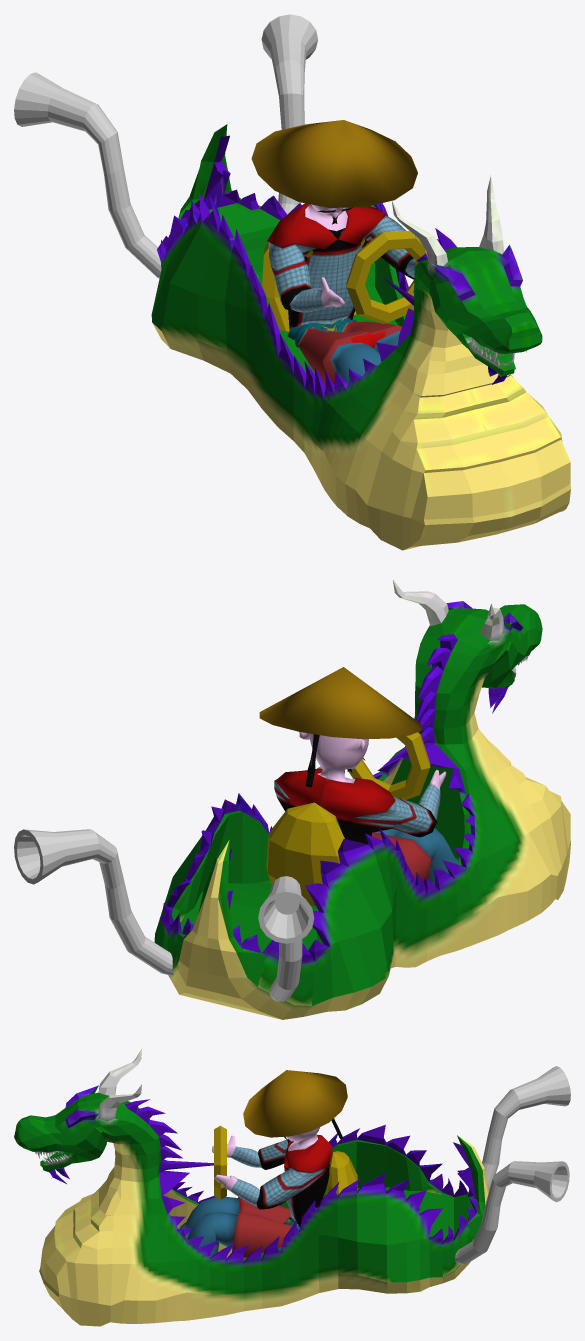
File: ChinoLanzamiento_000662.obj
3 renders of one model, top to bottom at view 1: azimuth 30°, elevation 25°; view 2: azimuth 150°, elevation 25°; view 3: azimuth 270°, elevation 25°, orthographic. The views are drawn at different scales.
Visible parts, largest first — view 1: ChasisChino_ChasisChinoH, Chino_ChinoH, Tubos_TubosH, volanteChino_VolanteChinoH, AsientoChinoMalla_AsientoChinoMH; view 2: ChasisChino_ChasisChinoH, Chino_ChinoH, Tubos_TubosH, AsientoChinoMalla_AsientoChinoMH, volanteChino_VolanteChinoH; view 3: ChasisChino_ChasisChinoH, Chino_ChinoH, Tubos_TubosH, AsientoChinoMalla_AsientoChinoMH, volanteChino_VolanteChinoH.
Boxes of the visible parts, <box> form: ChasisChino_ChasisChinoH: <box>151,124,570,550</box>; Chino_ChinoH: <box>251,120,417,387</box>; Tubos_TubosH: <box>14,14,317,278</box>; volanteChino_VolanteChinoH: <box>346,231,425,323</box>; AsientoChinoMalla_AsientoChinoMH: <box>262,242,356,331</box>; ChasisChino_ChasisChinoH: <box>154,580,570,1019</box>; Chino_ChinoH: <box>259,667,458,884</box>; Tubos_TubosH: <box>14,829,314,1001</box>; AsientoChinoMalla_AsientoChinoMH: <box>266,802,344,906</box>; volanteChino_VolanteChinoH: <box>347,732,430,799</box>; ChasisChino_ChasisChinoH: <box>14,1049,489,1326</box>; Chino_ChinoH: <box>179,1070,347,1257</box>; Tubos_TubosH: <box>455,1066,570,1264</box>; AsientoChinoMalla_AsientoChinoMH: <box>325,1151,357,1195</box>; volanteChino_VolanteChinoH: <box>214,1126,226,1199</box>.
Size of the model in its own units: 6.15 by 6.07 by 13.3.
